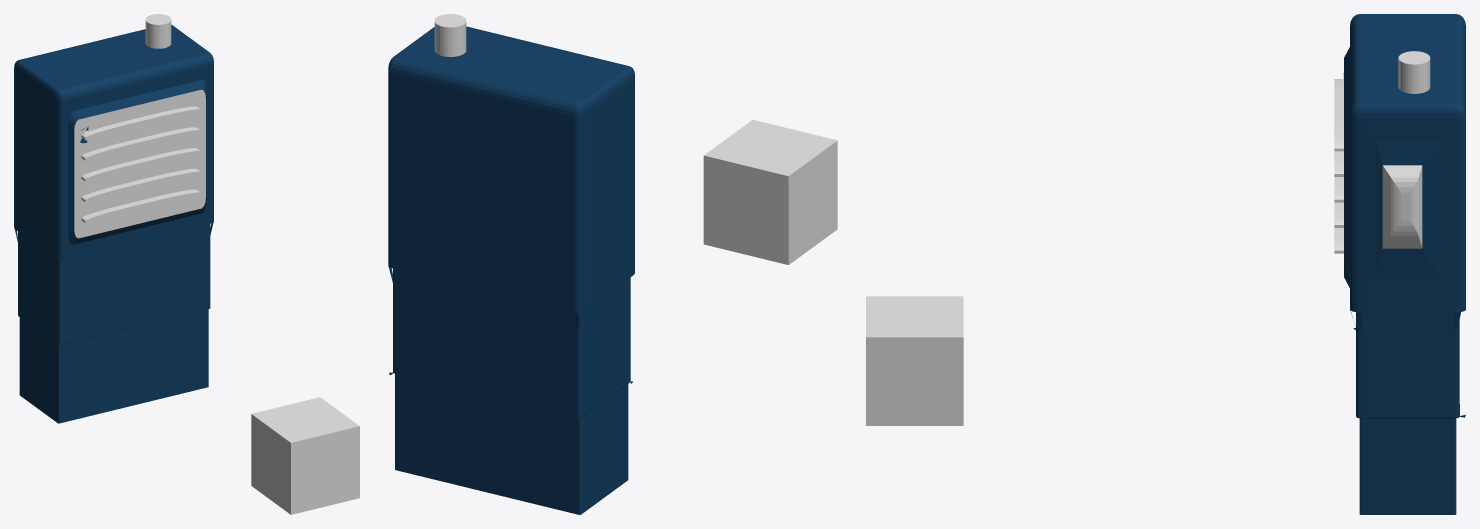
The model's file is WalkieTalkieblend.fbx.
The picture shows the model from 3 angles, left to right: view 1: azimuth 30°, elevation 25°; view 2: azimuth 150°, elevation 25°; view 3: azimuth 270°, elevation 25°; orthographic projection. The views are drawn at different scales.
Visible parts, largest first — view 1: Plane, Cube, Plane.001, Circle; view 2: Plane, Cube, Circle; view 3: Plane, Cube, Plane.001, Circle.
Boxes of the visible parts, x1,y1,x2,y2 form: Plane: [14, 24, 213, 423]; Cube: [251, 397, 359, 514]; Plane.001: [81, 106, 200, 223]; Circle: [145, 14, 171, 48]; Plane: [388, 26, 634, 514]; Cube: [703, 119, 837, 264]; Circle: [434, 14, 466, 56]; Plane: [1343, 14, 1465, 514]; Cube: [866, 296, 963, 425]; Plane.001: [1334, 79, 1343, 253]; Circle: [1398, 51, 1430, 93].
Size of the model in its own units: 140 by 286 by 353.
